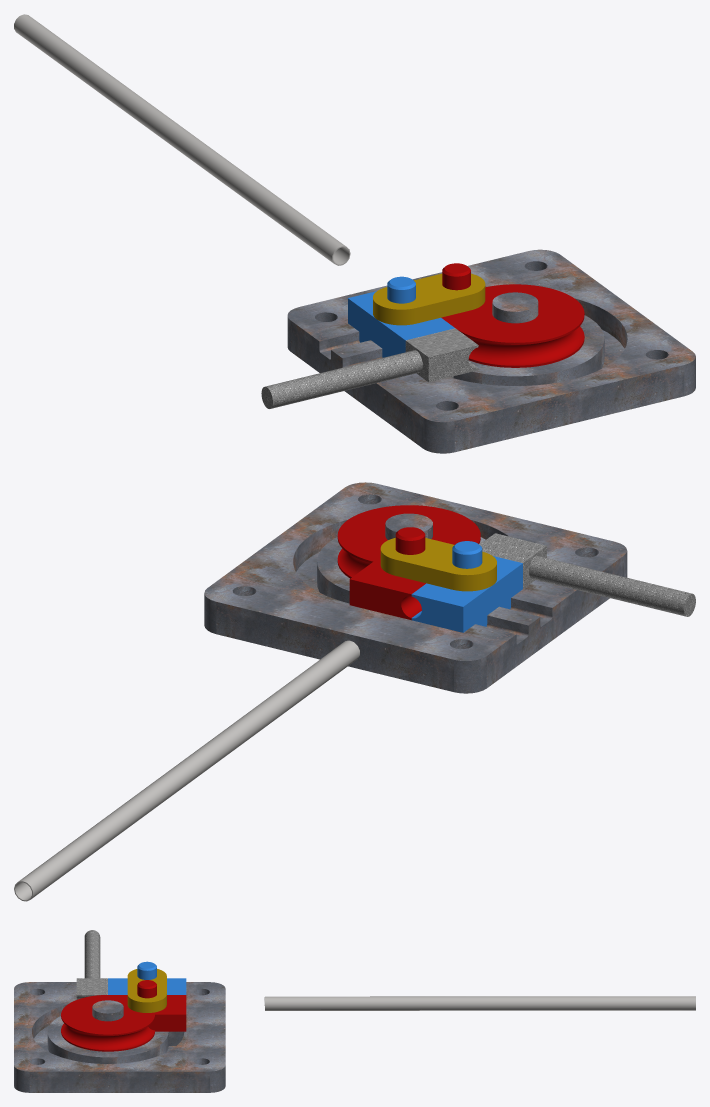
3 renders of one model, top to bottom at view 1: azimuth 30°, elevation 25°; view 2: azimuth 150°, elevation 25°; view 3: azimuth 270°, elevation 25°, orthographic. The views are drawn at different scales.
Parts seen in each view (by area): view 1: Base, Solid1, Bending Die, Lever, Clip, Clamp; view 2: Base, Solid1, Bending Die, Lever, Clamp, Clip; view 3: Base, Solid1, Bending Die, Lever, Clip, Clamp.
Boxes of the visible parts, x1=… form: Base: x1=287, y1=249, x2=695, y2=453; Solid1: x1=14, y1=14, x2=350, y2=265; Bending Die: x1=441, y1=263, x2=584, y2=367; Lever: x1=261, y1=328, x2=478, y2=408; Clip: x1=373, y1=273, x2=485, y2=325; Clamp: x1=348, y1=276, x2=454, y2=357; Base: x1=204, y1=482, x2=627, y2=693; Solid1: x1=14, y1=640, x2=359, y2=901; Bending Die: x1=337, y1=505, x2=480, y2=620; Lever: x1=479, y1=533, x2=695, y2=616; Clamp: x1=411, y1=541, x2=522, y2=632; Clip: x1=380, y1=538, x2=496, y2=591; Base: x1=14, y1=982, x2=225, y2=1092; Solid1: x1=264, y1=996, x2=695, y2=1010; Bending Die: x1=61, y1=980, x2=186, y2=1051; Lever: x1=76, y1=930, x2=107, y2=999; Clip: x1=127, y1=969, x2=166, y2=1012; Clamp: x1=108, y1=961, x2=186, y2=994.
Bounding box in the file's own units: 0.38 × 0.084 × 0.87.
6 materials, 2 textured.
